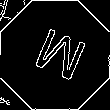M_SW: (24, 23, 86, 87)
